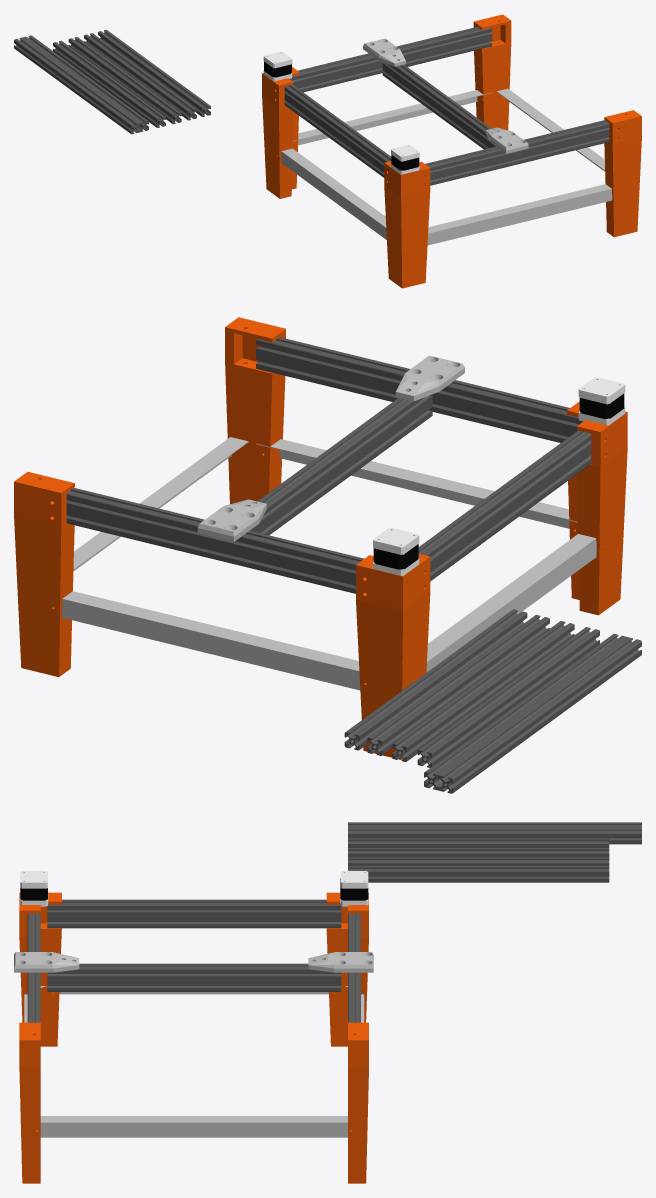
Rendered from PnP1.obj.
3 renders of one model, top to bottom at view 1: azimuth 30°, elevation 25°; view 2: azimuth 150°, elevation 25°; view 3: azimuth 270°, elevation 25°, orthographic. The views are drawn at different scales.
Visible parts, largest first — view 1: Profil_2040_450mm.001_Profil_2040_300mm.001, Profil_2040_450mm.002_Profil_2040_300mm.002, Profil_500mm.002_Cube.011, Profil_2040_450mm.003_Profil_2040_300mm.003, Base.005_Cube.006, Profil_2040_450mm_Profil_2040_300mm, Profil_2040_450mm.004_Profil_2040_300mm.004, Base.007_Cube.008, Profil_500mm.001_Cube.012, Base.006_Cube.017, Base.004_Cube.004, Base.001_Cube.002 (+13 smaller); view 2: Profil_2040_450mm.002_Profil_2040_300mm.002, Profil_2040_450mm.001_Profil_2040_300mm.001, Profil_500mm.003_Cube.009, Profil_2040_450mm.003_Profil_2040_300mm.003, Base.004_Cube.004, Profil_2040_450mm_Profil_2040_300mm, Profil_2040_450mm.004_Profil_2040_300mm.004, Base.006_Cube.017, Base.007_Cube.008, Base.005_Cube.006, Profil_500mm.001_Cube.012, Profil_2020_400mm.003_2020.003 (+13 smaller); view 3: Profil_2040_450mm_Profil_2040_300mm, Profil_2040_450mm.004_Profil_2040_300mm.004, Profil_500mm_Cube.013, Profil_2040_450mm.003_Profil_2040_300mm.003, Profil_2020_400mm.002_2020.002, Profil_2020_400mm.003_2020.003, Profil_2020_400mm_2020, Profil_2020_400mm.001_2020.001, Base.007_Cube.008, Base.006_Cube.017, Base.005_Cube.006, Base.004_Cube.004 (+11 smaller).
Part boxes in pixels (x1=…): Profil_2040_450mm.001_Profil_2040_300mm.001: x1=290, y1=27, x2=492, y2=92; Profil_2040_450mm.002_Profil_2040_300mm.002: x1=425, y1=120, x2=609, y2=185; Profil_500mm.002_Cube.011: x1=427, y1=184, x2=612, y2=245; Profil_2040_450mm.003_Profil_2040_300mm.003: x1=14, y1=35, x2=148, y2=134; Base.005_Cube.006: x1=384, y1=161, x2=430, y2=240; Profil_2040_450mm_Profil_2040_300mm: x1=284, y1=84, x2=391, y2=177; Profil_2040_450mm.004_Profil_2040_300mm.004: x1=382, y1=63, x2=495, y2=149; Base.007_Cube.008: x1=604, y1=110, x2=641, y2=189; Profil_500mm.001_Cube.012: x1=281, y1=148, x2=386, y2=239; Base.006_Cube.017: x1=473, y1=14, x2=511, y2=94; Base.004_Cube.004: x1=262, y1=67, x2=299, y2=151; Base.001_Cube.002: x1=386, y1=230, x2=427, y2=288; Profil_2040_450mm.002_Profil_2040_300mm.002: x1=256, y1=337, x2=582, y2=442; Profil_2040_450mm.001_Profil_2040_300mm.001: x1=66, y1=488, x2=363, y2=593; Profil_500mm.003_Cube.009: x1=62, y1=591, x2=360, y2=690; Profil_2040_450mm.003_Profil_2040_300mm.003: x1=424, y1=634, x2=641, y2=793; Base.004_Cube.004: x1=356, y1=554, x2=430, y2=683; Profil_2040_450mm_Profil_2040_300mm: x1=418, y1=430, x2=591, y2=581; Profil_2040_450mm.004_Profil_2040_300mm.004: x1=250, y1=395, x2=432, y2=535; Base.006_Cube.017: x1=14, y1=471, x2=74, y2=600; Base.007_Cube.008: x1=225, y1=317, x2=285, y2=446; Base.005_Cube.006: x1=567, y1=401, x2=627, y2=538; Profil_500mm.001_Cube.012: x1=426, y1=534, x2=596, y2=672; Profil_2020_400mm.003_2020.003: x1=417, y1=627, x2=599, y2=767; Profil_2040_450mm_Profil_2040_300mm: x1=47, y1=899, x2=341, y2=928; Profil_2040_450mm.004_Profil_2040_300mm.004: x1=47, y1=963, x2=341, y2=991; Profil_500mm_Cube.013: x1=37, y1=1116, x2=351, y2=1137; Profil_2040_450mm.003_Profil_2040_300mm.003: x1=348, y1=822, x2=641, y2=844; Profil_2020_400mm.002_2020.002: x1=348, y1=866, x2=609, y2=882; Profil_2020_400mm.003_2020.003: x1=348, y1=838, x2=609, y2=847; Profil_2020_400mm_2020: x1=348, y1=848, x2=609, y2=857; Profil_2020_400mm.001_2020.001: x1=348, y1=857, x2=609, y2=865; Base.007_Cube.008: x1=19, y1=1022, x2=40, y2=1123; Base.006_Cube.017: x1=348, y1=1022, x2=368, y2=1123; Base.005_Cube.006: x1=19, y1=892, x2=61, y2=994; Base.004_Cube.004: x1=326, y1=892, x2=368, y2=994.
Bounding box in the file's own units: 0.8446 × 0.282 × 0.9607.
